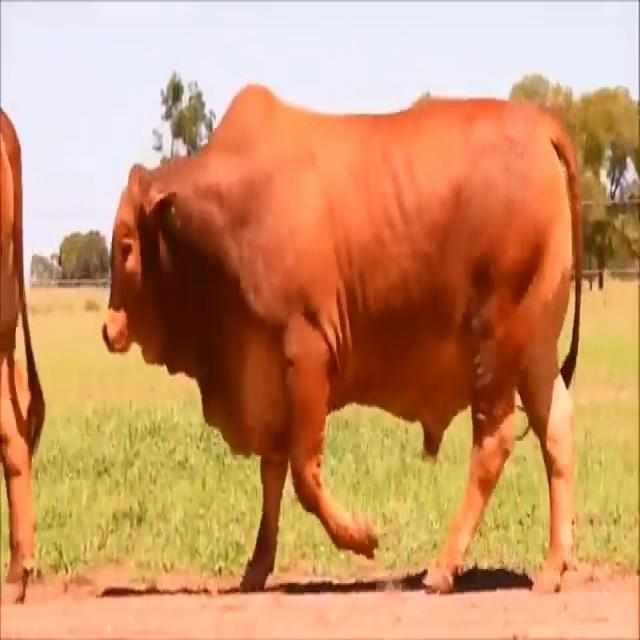COW: (102, 87, 582, 591)
